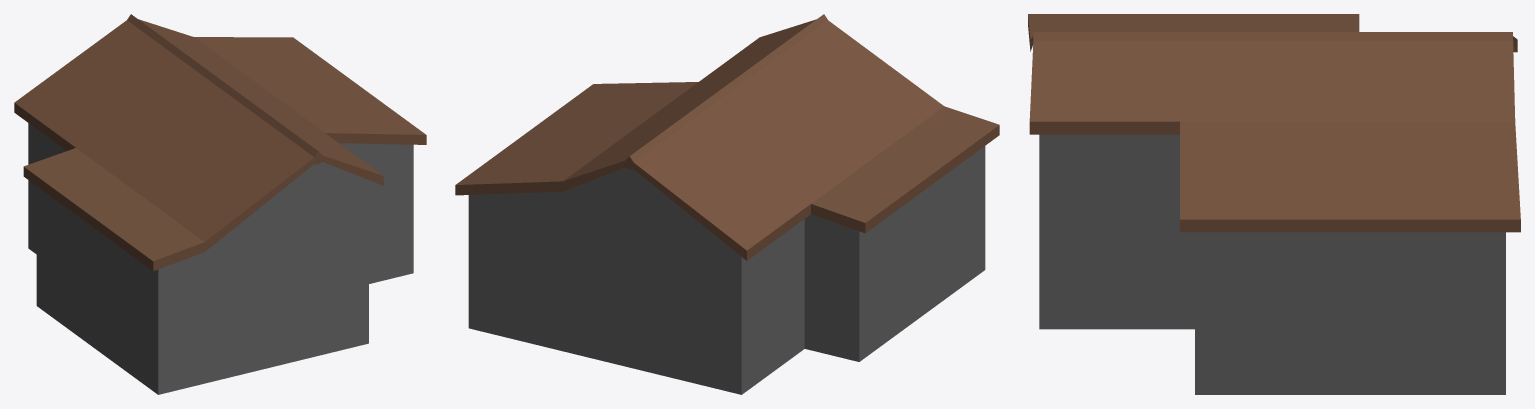
Rendered from Room01.fbx.
3 renders of one model, left to right at view 1: azimuth 30°, elevation 25°; view 2: azimuth 150°, elevation 25°; view 3: azimuth 270°, elevation 25°, orthographic. The views are drawn at different scales.
Visible parts, largest first — view 1: Room01; view 2: Room01; view 3: Room01.
Part boxes in pixels (x1,y1,x2,y2): Room01: [14, 14, 426, 394]; Room01: [455, 14, 999, 394]; Room01: [1028, 14, 1520, 394].
Bounding box in the file's own units: 632 × 375 × 634.
